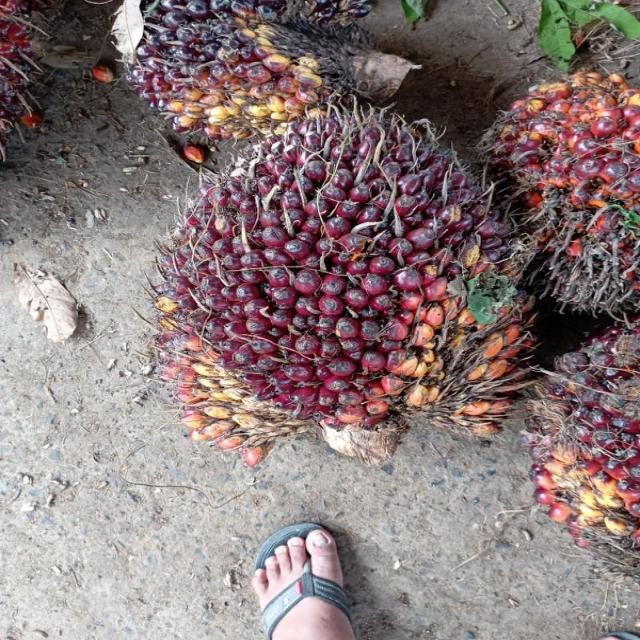fraksi 1: (123, 80, 540, 490)
